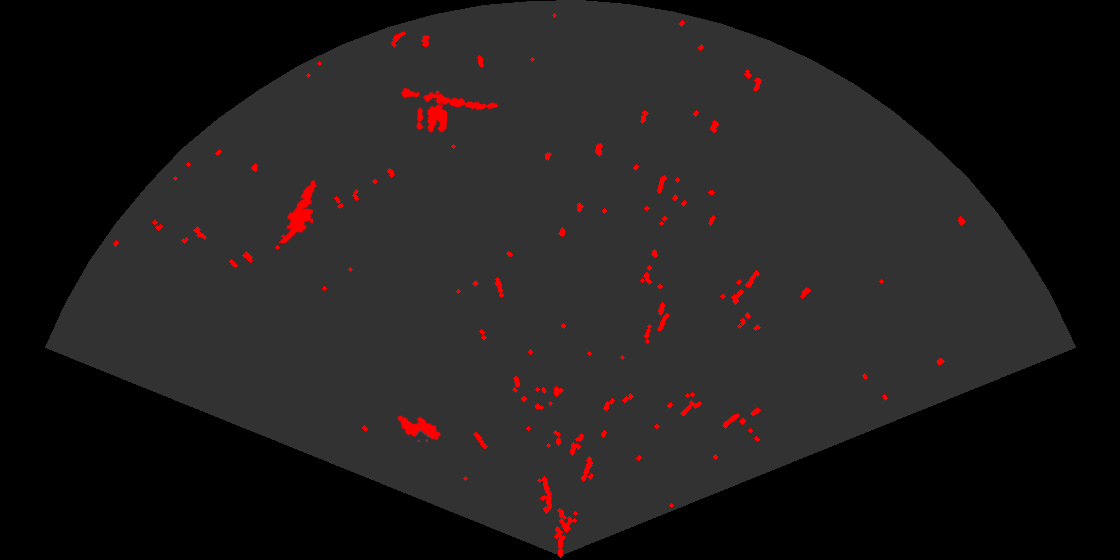AUV: (396, 414, 442, 444)
ball: (415, 103, 449, 134)
chain: (399, 86, 500, 112)
frogman: (277, 178, 318, 243)
